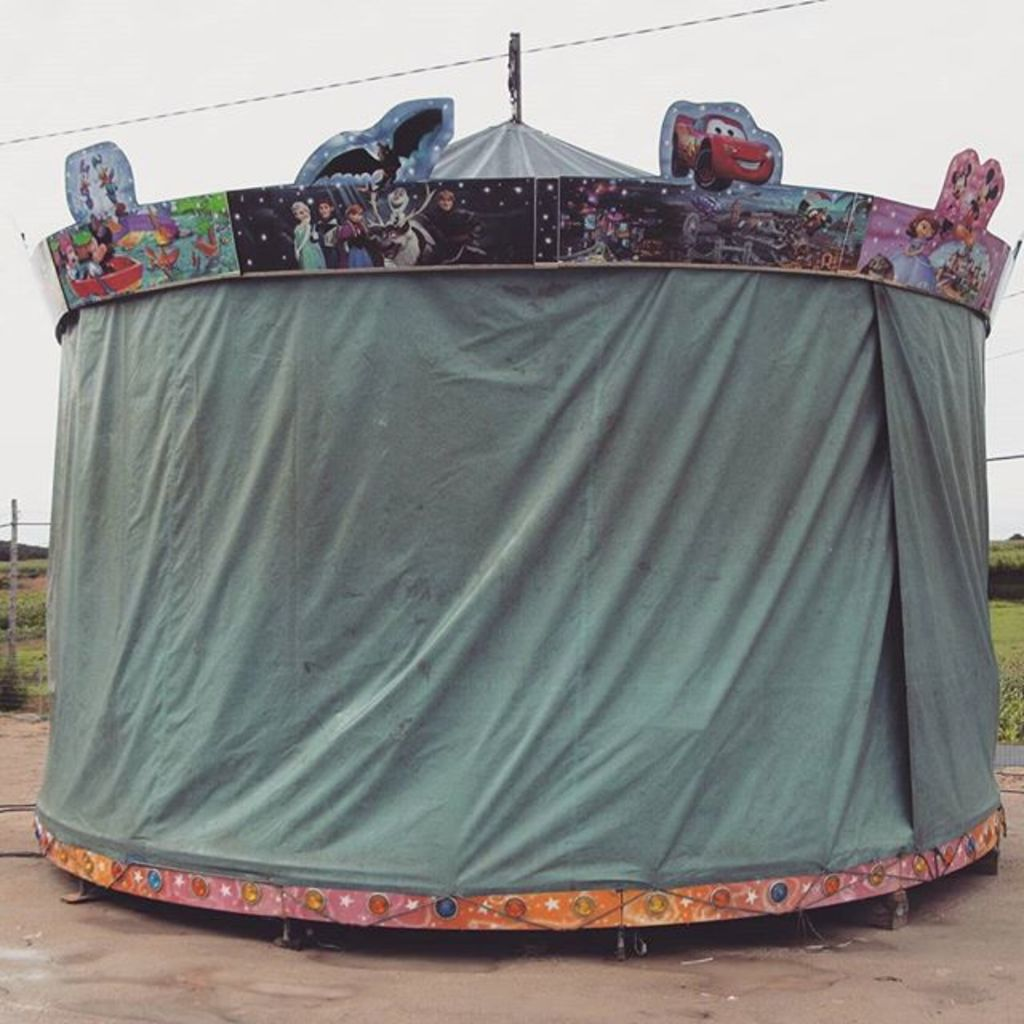Car: (672, 108, 775, 188)
